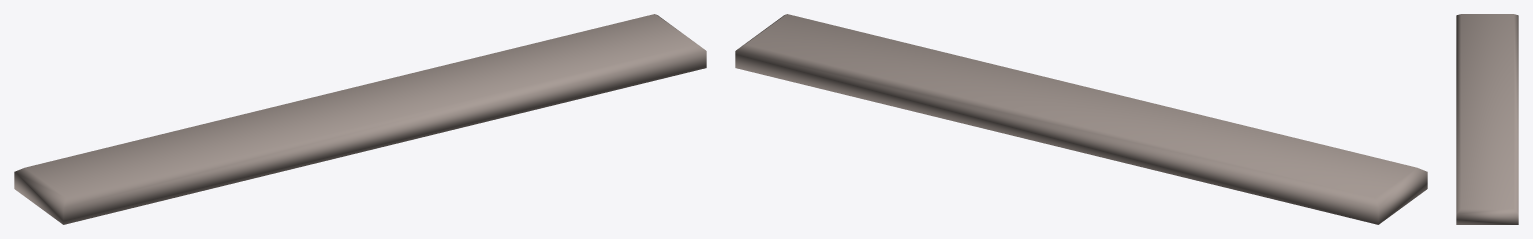
File: InishmoreFlatRock_3width_Var1.fbx
3 renders of one model, left to right at view 1: azimuth 30°, elevation 25°; view 2: azimuth 150°, elevation 25°; view 3: azimuth 270°, elevation 25°, orthographic. The views are drawn at different scales.
Visible parts, largest first — view 1: InishmoreFlatRock.010; view 2: InishmoreFlatRock.010; view 3: InishmoreFlatRock.010.
Boxes of the visible parts, left/top/right/bottom form: InishmoreFlatRock.010: left=14, top=14, right=706, bottom=224; InishmoreFlatRock.010: left=735, top=14, right=1427, bottom=224; InishmoreFlatRock.010: left=1456, top=14, right=1518, bottom=224.
Size of the model in its own units: 884 by 29.45 by 117.
